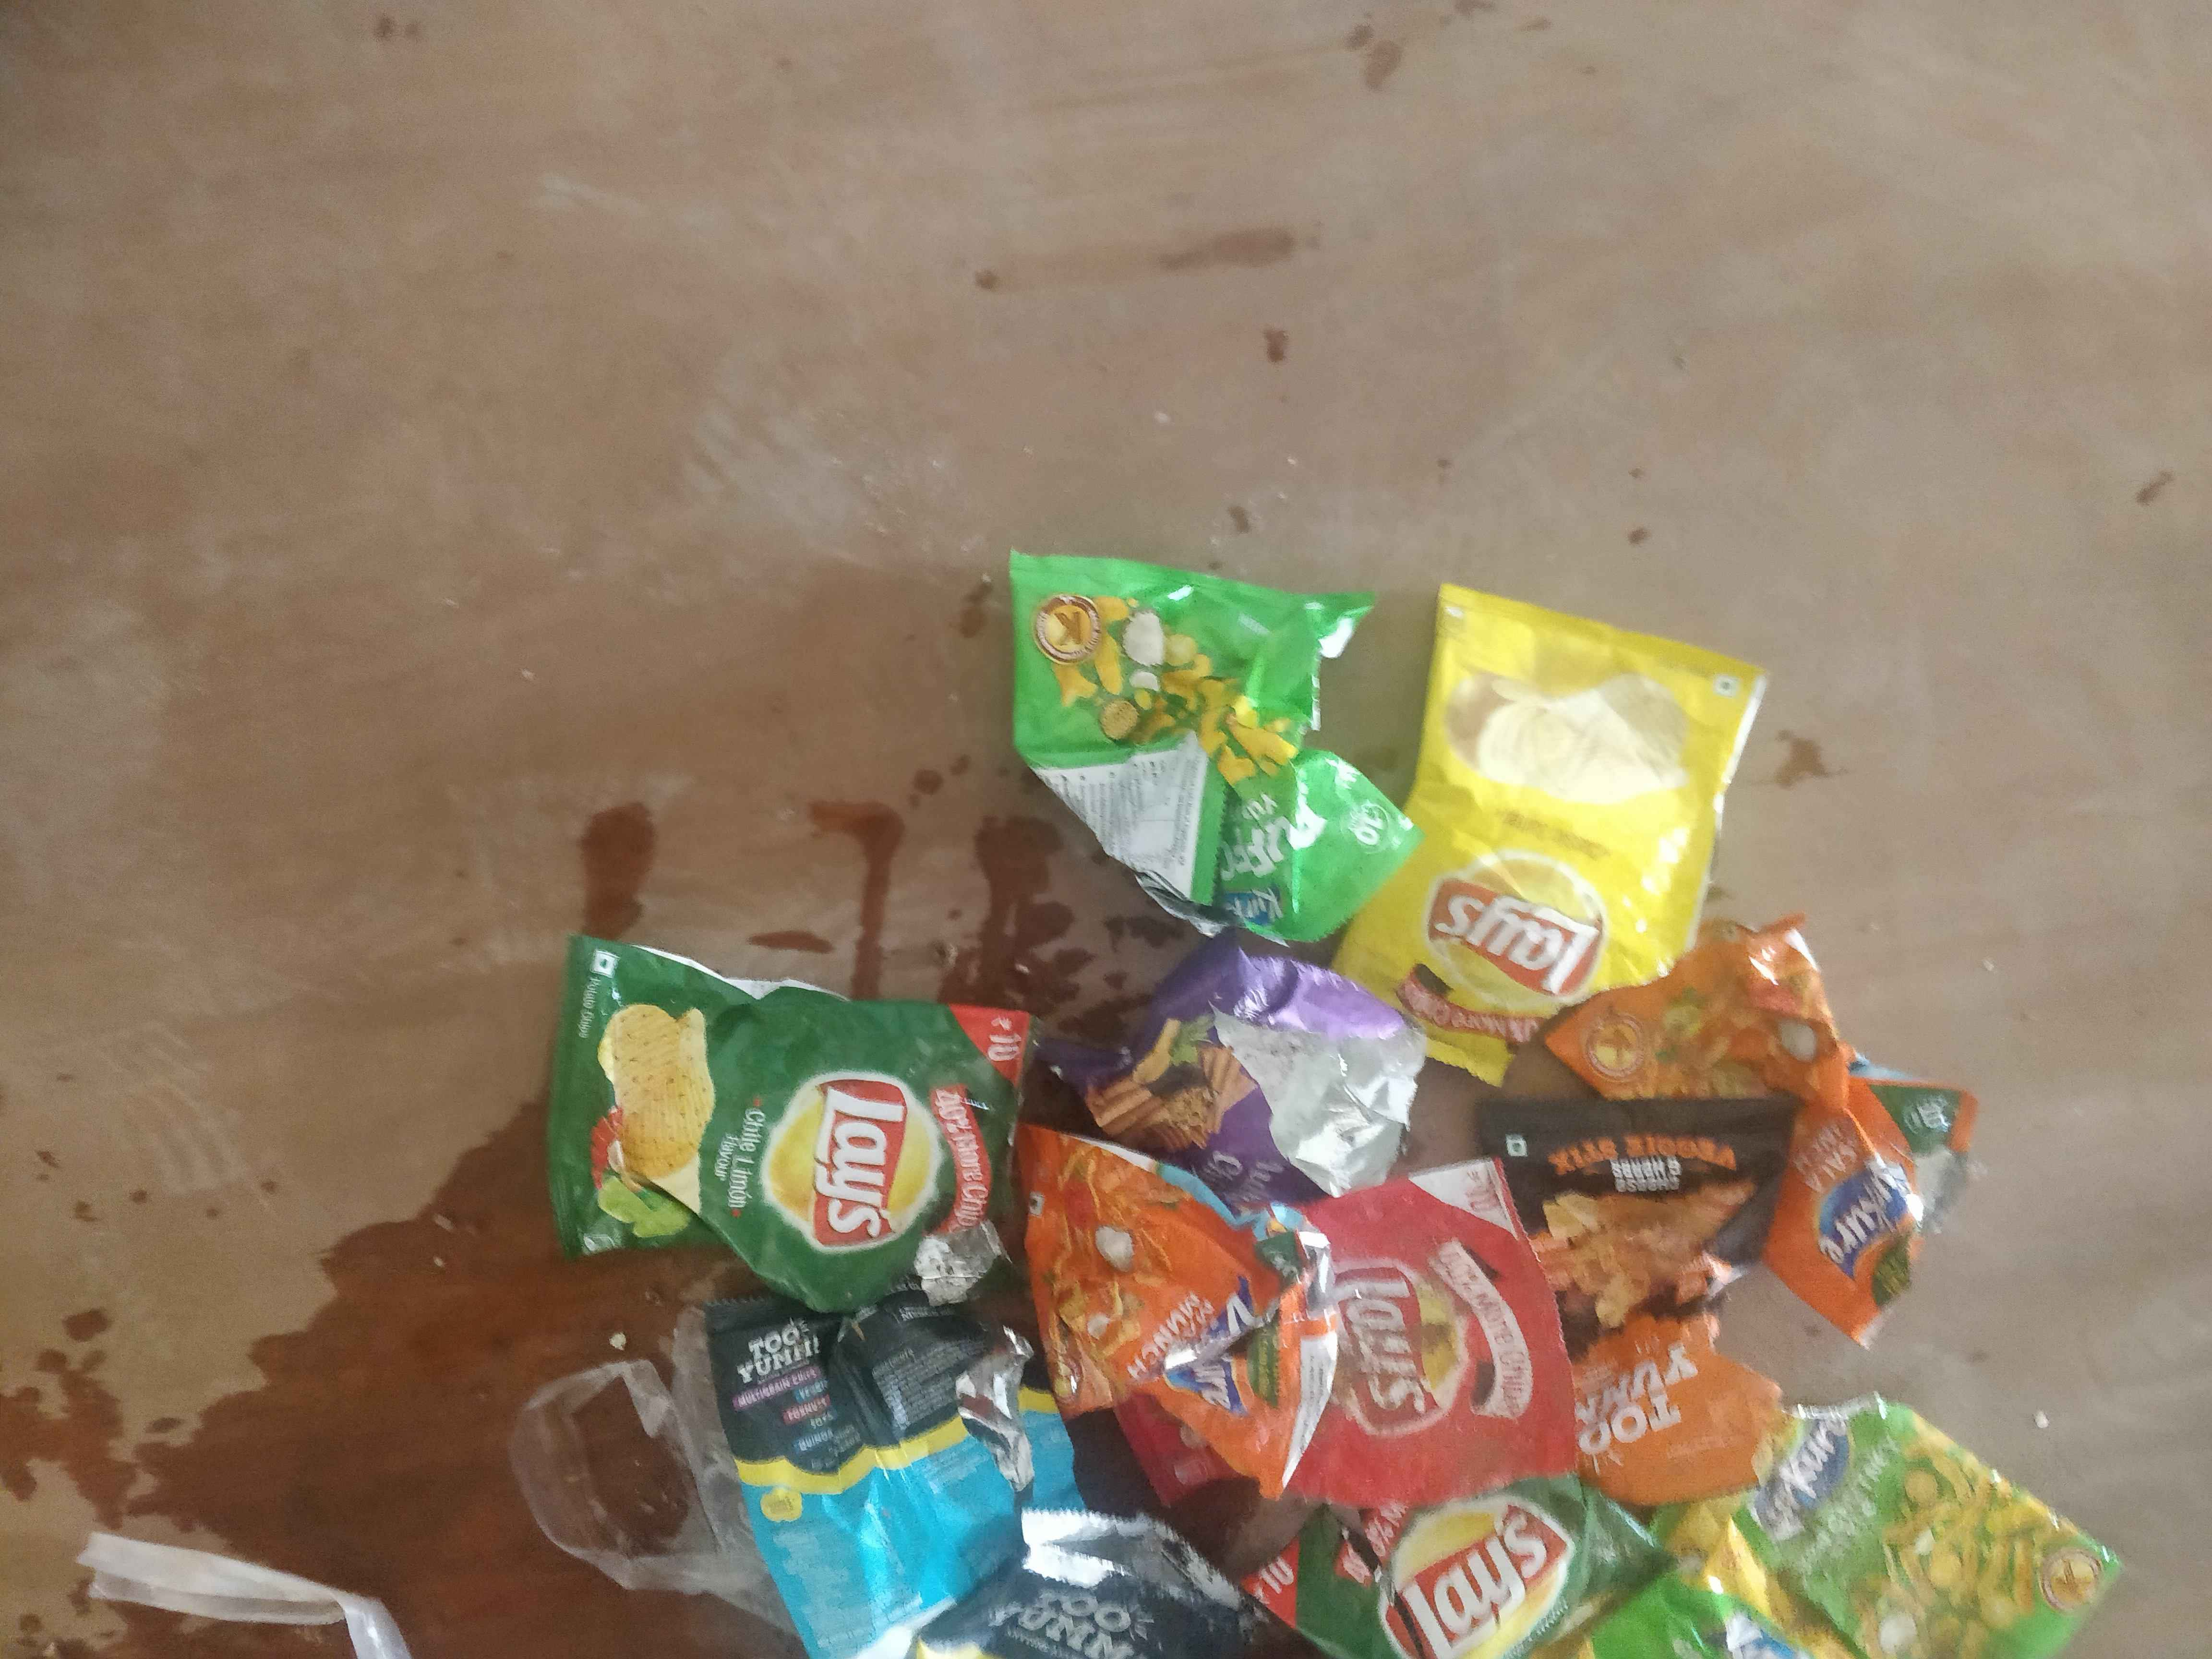Lays: (772, 1053, 961, 1281), (1409, 831, 1629, 1012), (1325, 1253, 1505, 1432), (1367, 1488, 1578, 1631)
kurkure: (1791, 1148, 1930, 1277), (1162, 1258, 1254, 1432), (1759, 1415, 1864, 1535), (1207, 873, 1305, 932), (1696, 1608, 1770, 1659)
tooyumm: (1566, 1351, 1731, 1455), (982, 1570, 1170, 1659), (730, 1312, 822, 1399)
